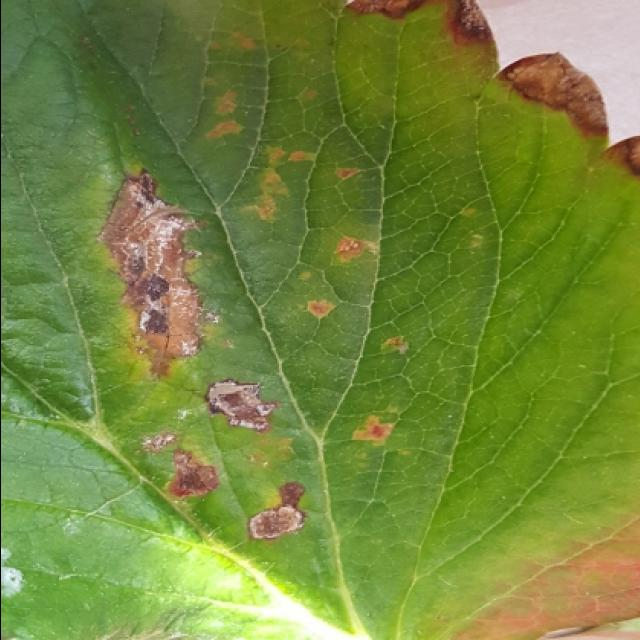Angular Leafspot: (92, 22, 422, 565)
